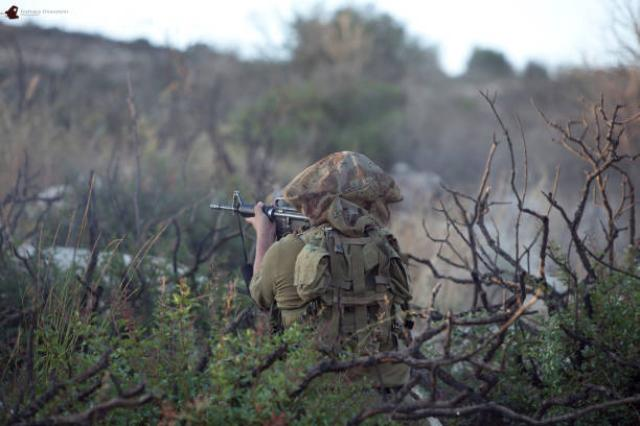other: (256, 153, 404, 355)
